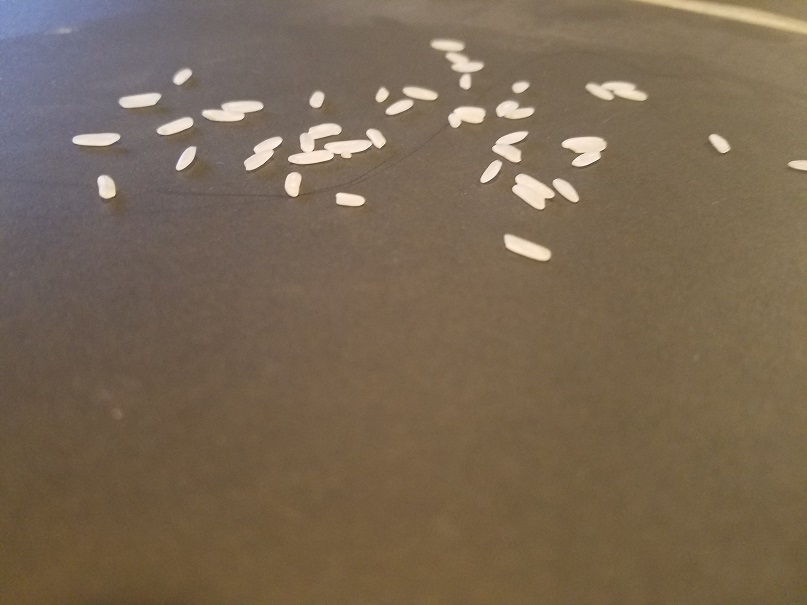egg: (502, 233, 553, 263), (514, 172, 558, 199), (509, 182, 544, 209), (154, 116, 194, 139), (240, 148, 276, 173), (287, 148, 334, 166), (402, 82, 441, 103), (324, 138, 372, 155), (554, 177, 584, 204), (199, 107, 247, 123), (491, 141, 523, 164), (583, 81, 618, 102), (560, 137, 608, 152), (492, 128, 528, 148), (220, 99, 264, 115), (571, 148, 608, 167), (174, 143, 199, 171), (95, 173, 118, 203), (67, 132, 120, 145), (118, 93, 163, 108), (706, 130, 732, 155), (364, 126, 390, 150), (308, 121, 342, 139), (252, 135, 282, 155), (282, 170, 302, 199), (494, 97, 519, 119), (333, 191, 367, 207), (502, 105, 534, 122), (385, 98, 415, 116), (611, 88, 652, 101), (479, 160, 503, 182), (430, 37, 468, 50), (450, 110, 484, 124), (171, 65, 193, 86), (308, 87, 327, 111), (445, 50, 473, 65), (298, 132, 316, 153), (374, 83, 391, 104), (511, 80, 531, 97), (450, 62, 484, 72), (608, 80, 638, 91), (452, 105, 486, 114), (787, 159, 807, 174), (446, 113, 461, 130), (460, 73, 473, 90)
